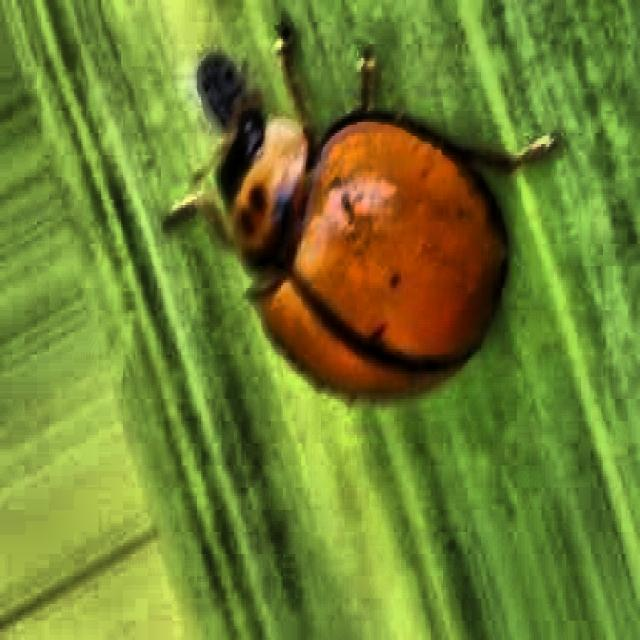Ladybug: (139, 12, 557, 444)
